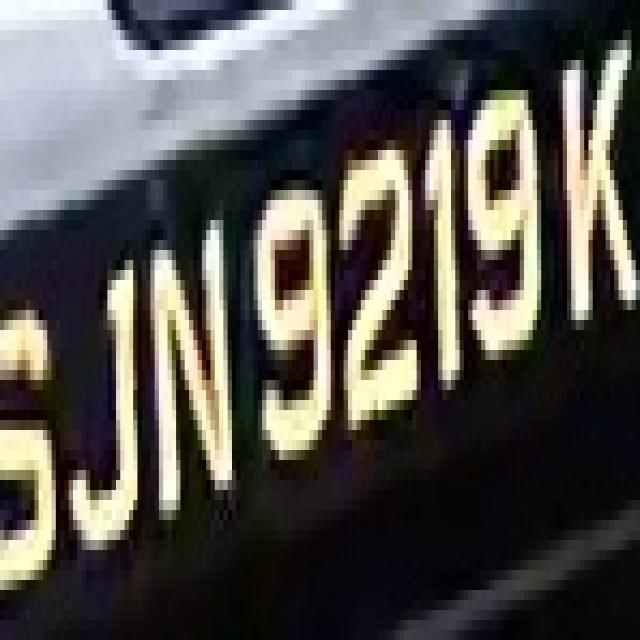1: (408, 110, 468, 420)
2: (326, 120, 416, 460)
9: (446, 70, 546, 390), (240, 170, 340, 470)
J: (51, 220, 138, 560)
K: (545, 10, 640, 380)
N: (133, 180, 245, 530)
S: (5, 250, 64, 600)
